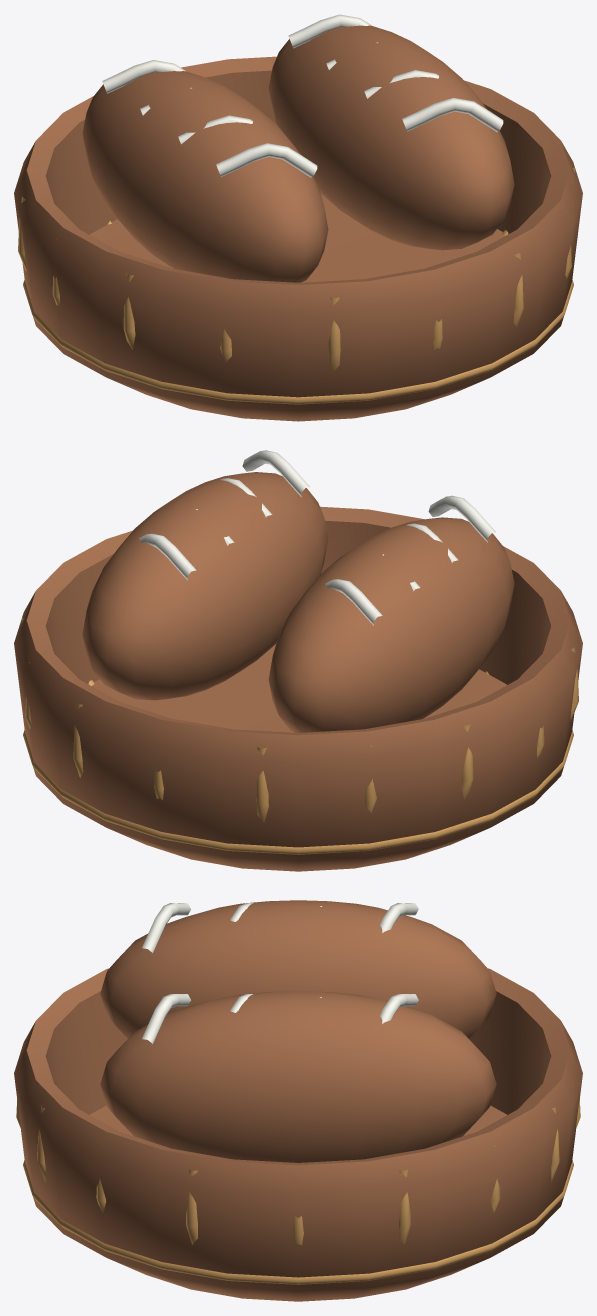
The model's file is storybook-christmas-market-winter-bread-basket-fb409e38__19724.glb.
The picture shows the model from 3 angles, top to bottom: view 1: azimuth 30°, elevation 25°; view 2: azimuth 150°, elevation 25°; view 3: azimuth 270°, elevation 25°; orthographic projection.
Visible parts, largest first — view 1: winter-bread-basket; view 2: winter-bread-basket; view 3: winter-bread-basket.
Boxes of the visible parts, x1,y1,x2,y2 form: winter-bread-basket: [14, 14, 582, 421]; winter-bread-basket: [14, 450, 582, 871]; winter-bread-basket: [14, 900, 582, 1301].
Size of the model in its own units: 0.9 by 0.452 by 0.9.
